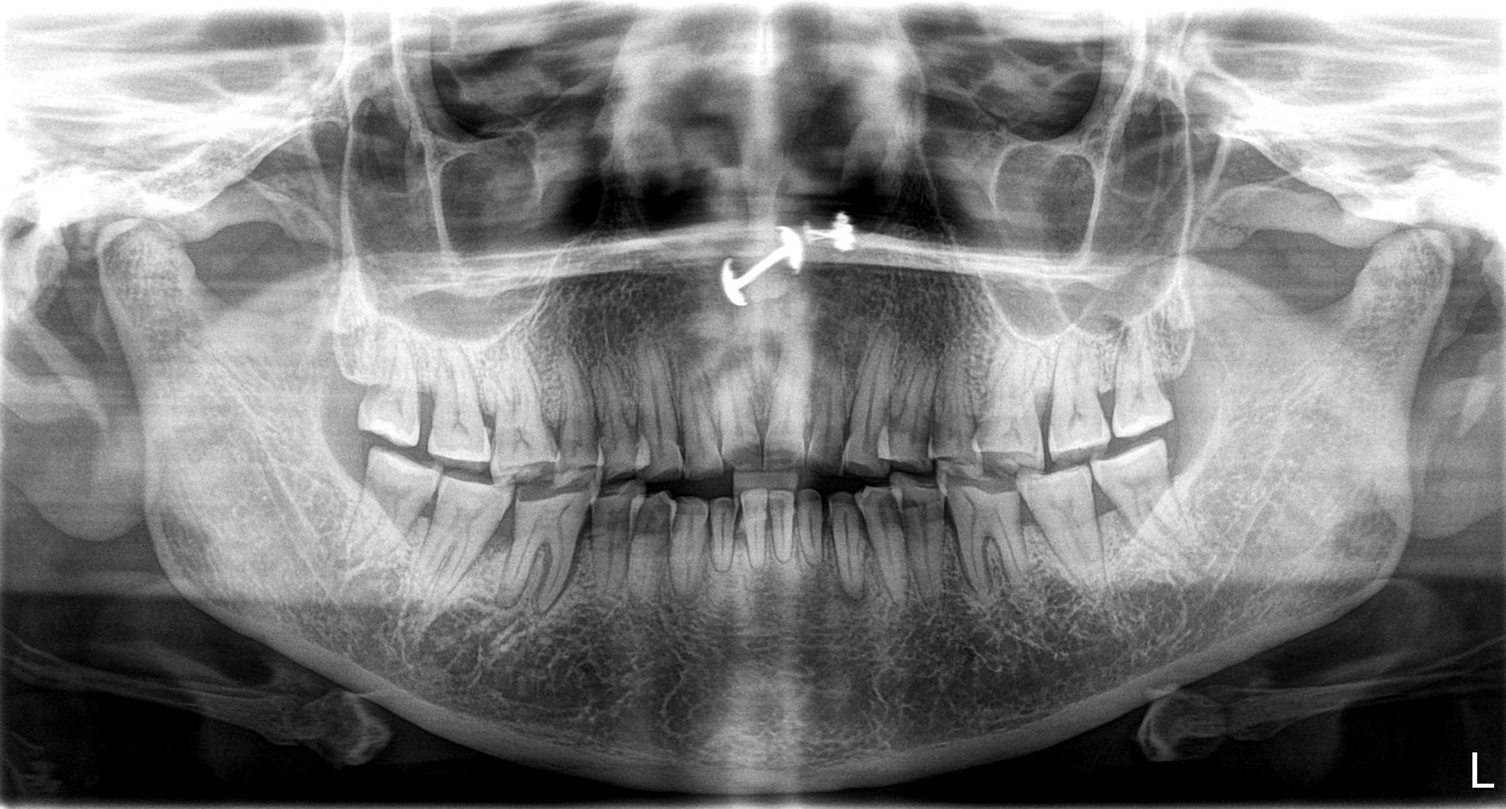Impacted Third Molar: (347, 447, 429, 575), (1101, 440, 1182, 557)
